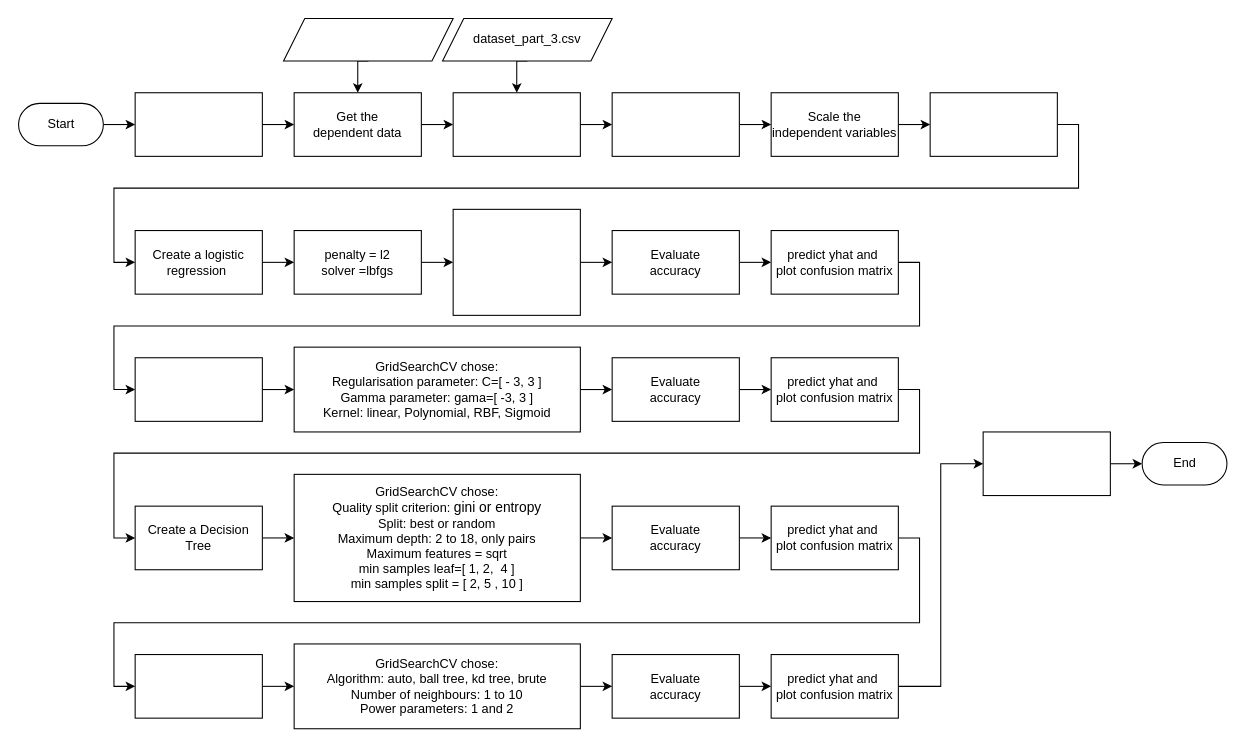
Some shapes in this 1245 by 747 pixel diagram are drawn without their labels. The shapes that lost their labels are listed below. From the top down, each one's centre as x and y in pixels, then its label:
At point 367,39: "dataset_part_2.csv".
At point 198,124: "Create confusion_matrix function".
At point 516,124: "Get the independent data (X)".
At point 675,124: "Dependent variable Y = data [ 'Class' ]".
At point 993,124: "Split the X and Y into train and test sets".
At point 516,261: "GridSearchCV to chose regularisation strengths between 0.01, 0.1 and 1.0".
At point 198,389: "Create a Suport Vector Machine".
At point 1046,463: "Evaluate the best model".
At point 198,685: "Create a K-Nearest Neighbour".
